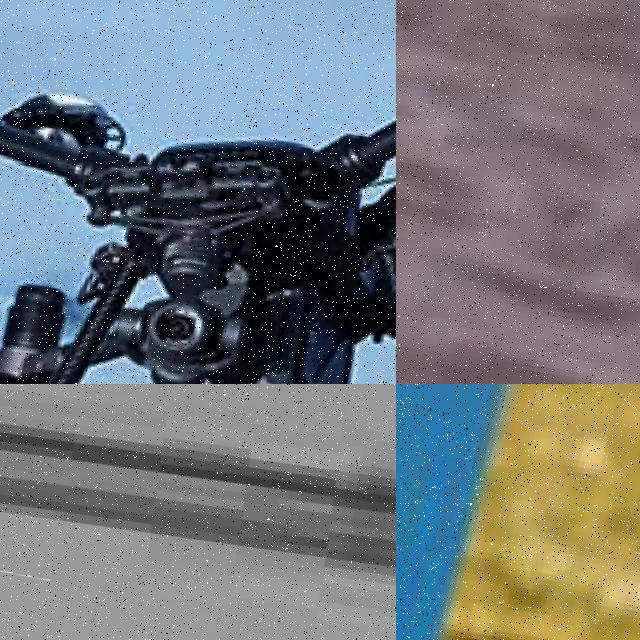drone: (0, 0, 396, 384), (396, 384, 640, 640), (0, 559, 396, 640)
